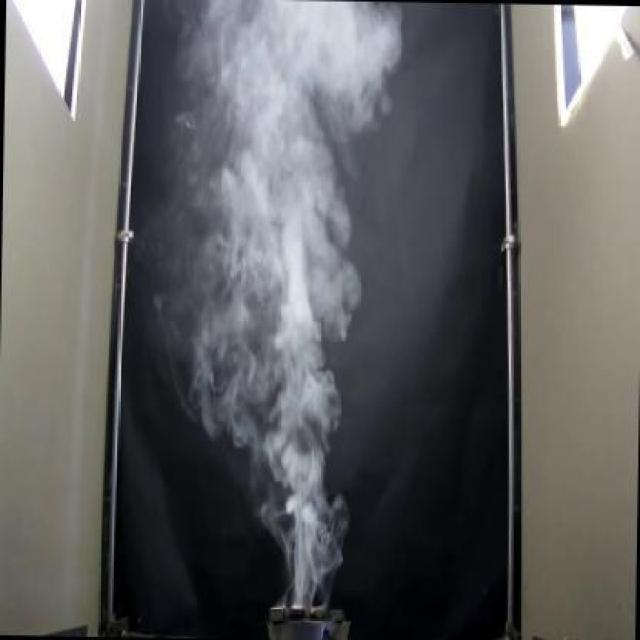smoke: (183, 0, 405, 600)
